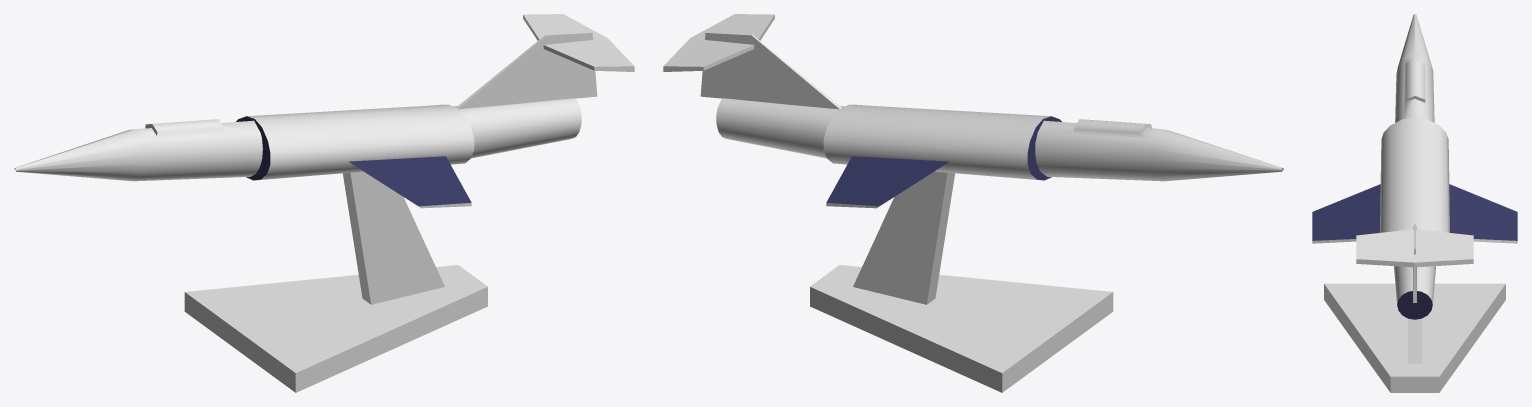
Rendered from F104 Hitbox.fbx.
3 views of the same model, side by side, from view 1: azimuth 30°, elevation 25°; view 2: azimuth 150°, elevation 25°; view 3: azimuth 270°, elevation 25° (orthographic). The views are drawn at different scales.
Parts seen in each view (by area): view 1: F base Coll, F body col, F staart col, F neus col; view 2: F base Coll, F body col, F staart col, F neus col; view 3: F body col, F base Coll, F staart col, F neus col.
Boxes of the visible parts, bbox=[...] form: F base Coll: bbox=[184, 171, 487, 392]; F body col: bbox=[236, 104, 474, 208]; F staart col: bbox=[453, 14, 634, 158]; F neus col: bbox=[14, 119, 262, 181]; F base Coll: bbox=[810, 171, 1113, 392]; F body col: bbox=[823, 104, 1061, 208]; F staart col: bbox=[663, 14, 844, 158]; F neus col: bbox=[1035, 119, 1283, 181]; F body col: bbox=[1312, 117, 1517, 243]; F base Coll: bbox=[1324, 283, 1505, 392]; F staart col: bbox=[1356, 223, 1473, 319]; F neus col: bbox=[1395, 14, 1434, 122].
Bounding box in the file's own units: 0.3857 × 0.1554 × 0.1414.
